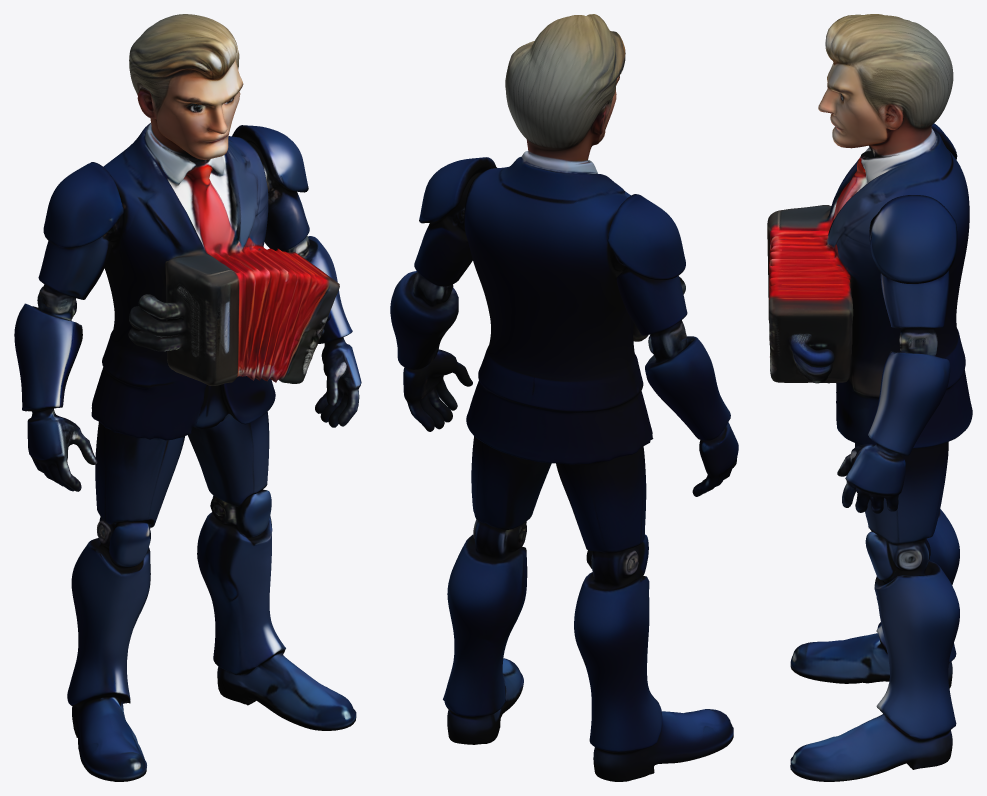
File: base_basic_pbr.glb
3 renders of one model, left to right at view 1: azimuth 30°, elevation 25°; view 2: azimuth 150°, elevation 25°; view 3: azimuth 270°, elevation 25°, orthographic.
Parts seen in each view (by area): view 1: model; view 2: model; view 3: model.
Part boxes in pixels (x1,y1,x2,y2): model: (14,14,361,781); model: (390,14,738,781); model: (767,14,972,781).
Size of the model in its own units: 0.8221 by 1.72 by 0.455.
1 material, 1 textured.
